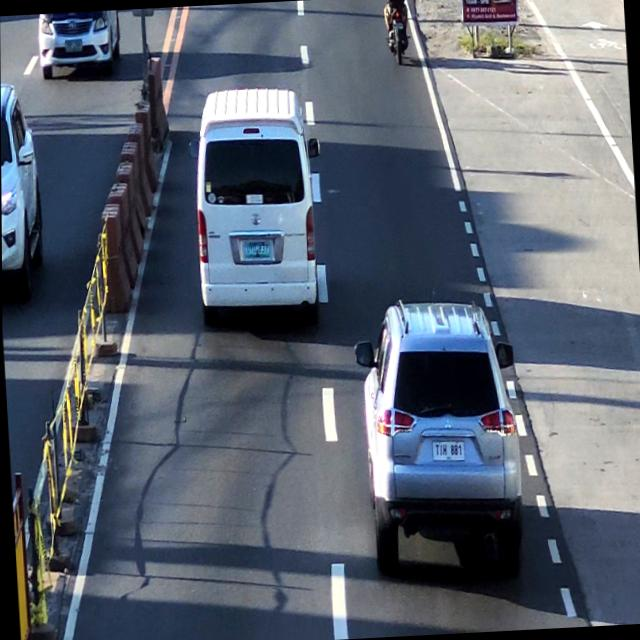Car: (358, 298, 526, 570), (194, 89, 330, 320)
License-Plate: (430, 438, 467, 464), (240, 236, 272, 262)
Motorcycle: (384, 0, 412, 66)
